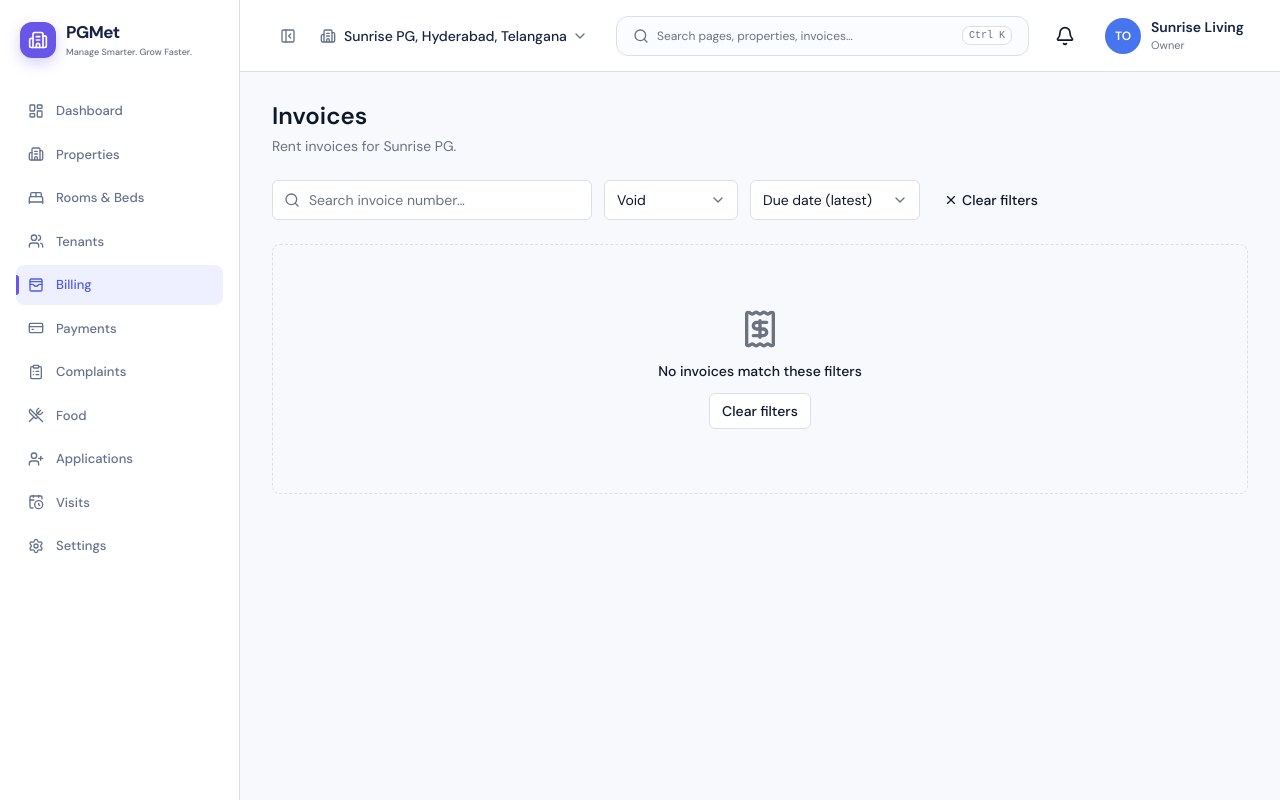
Scenario: list URL state › a filter with no matches says so and offers to clear, instead of "No invoices yet"
Expected: the text "No invoices match these filters" is shown, [658,361,862,381]
Step 1. Click the 1st button "Clear filters" → (991, 200), box [932,182,1050,218]
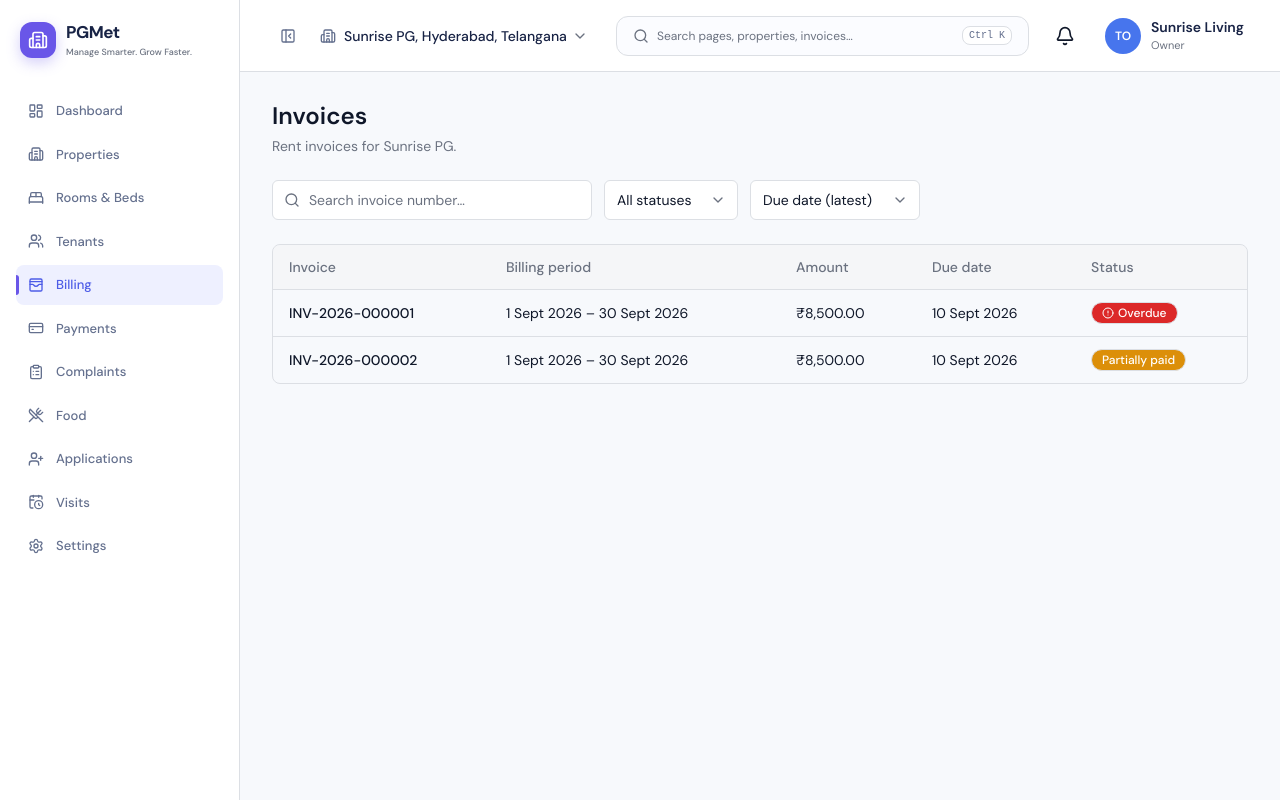
Expected: the text "INV-2026-000001" is shown, [289,304,414,322]
